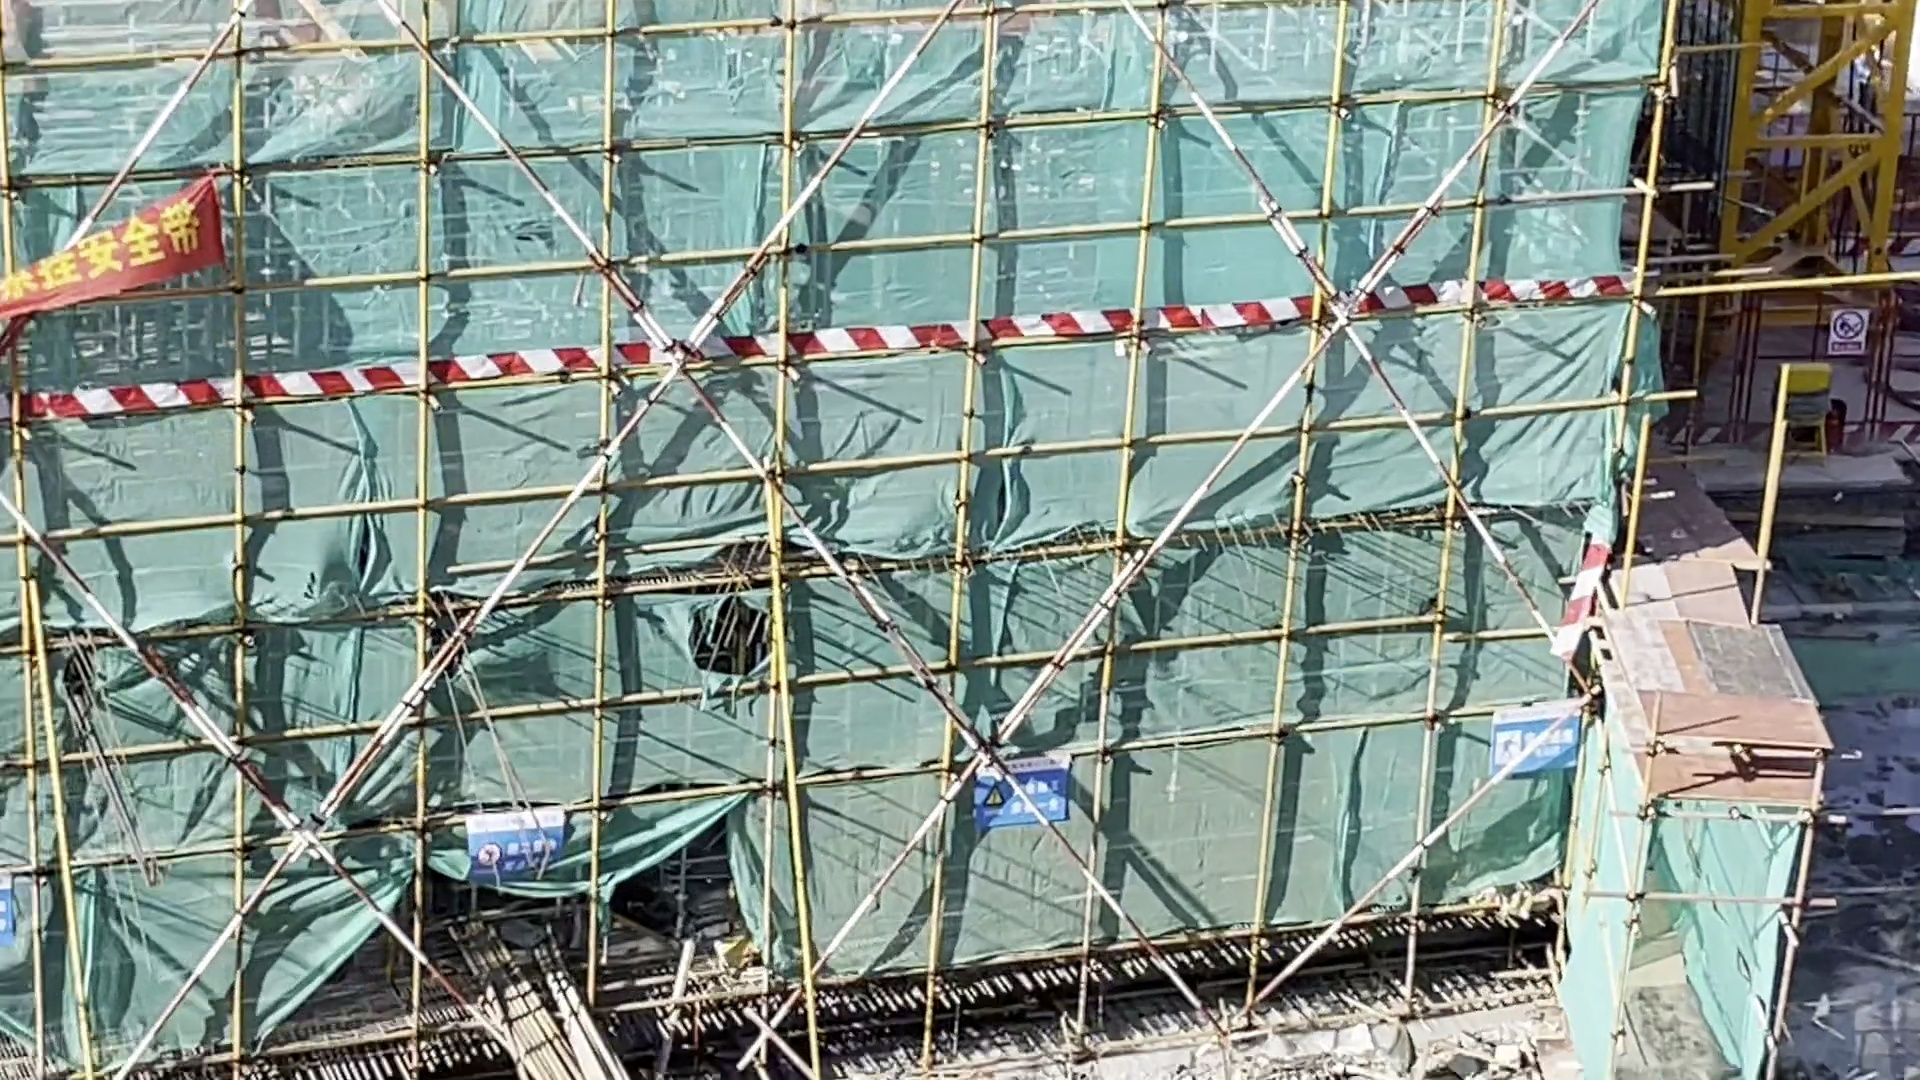slogan: (1, 196, 233, 290), (972, 760, 1073, 829), (473, 825, 555, 893), (1498, 723, 1577, 771), (1837, 310, 1871, 353)
